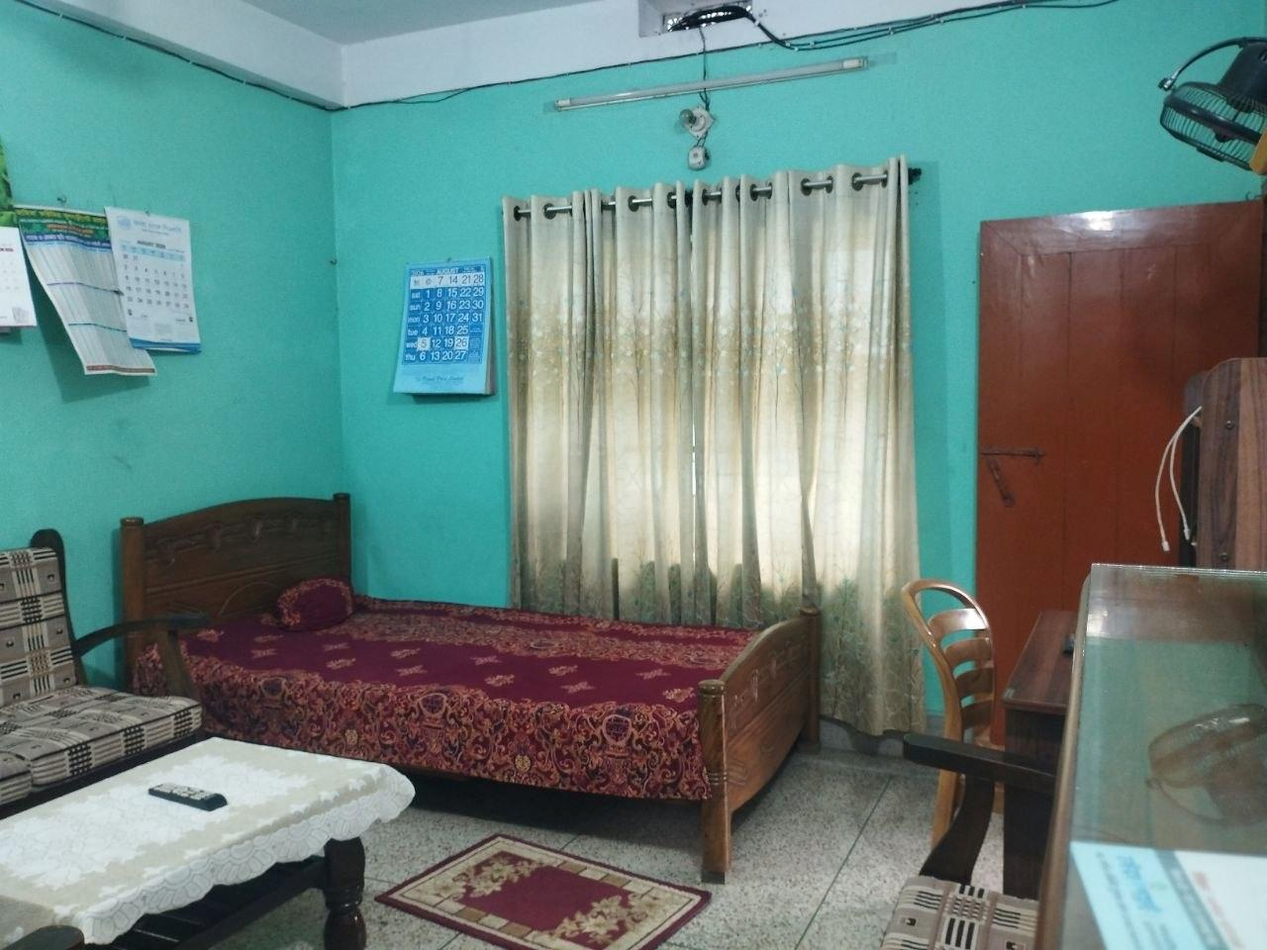Chair: (888, 562, 1033, 856)
Door: (975, 205, 1267, 689)
Fan: (1136, 28, 1267, 187)
Floor Mat: (364, 828, 722, 950)
Light: (503, 41, 892, 134)
Pillow: (254, 570, 374, 634)
Remote: (0, 728, 419, 950), (122, 772, 242, 819)
